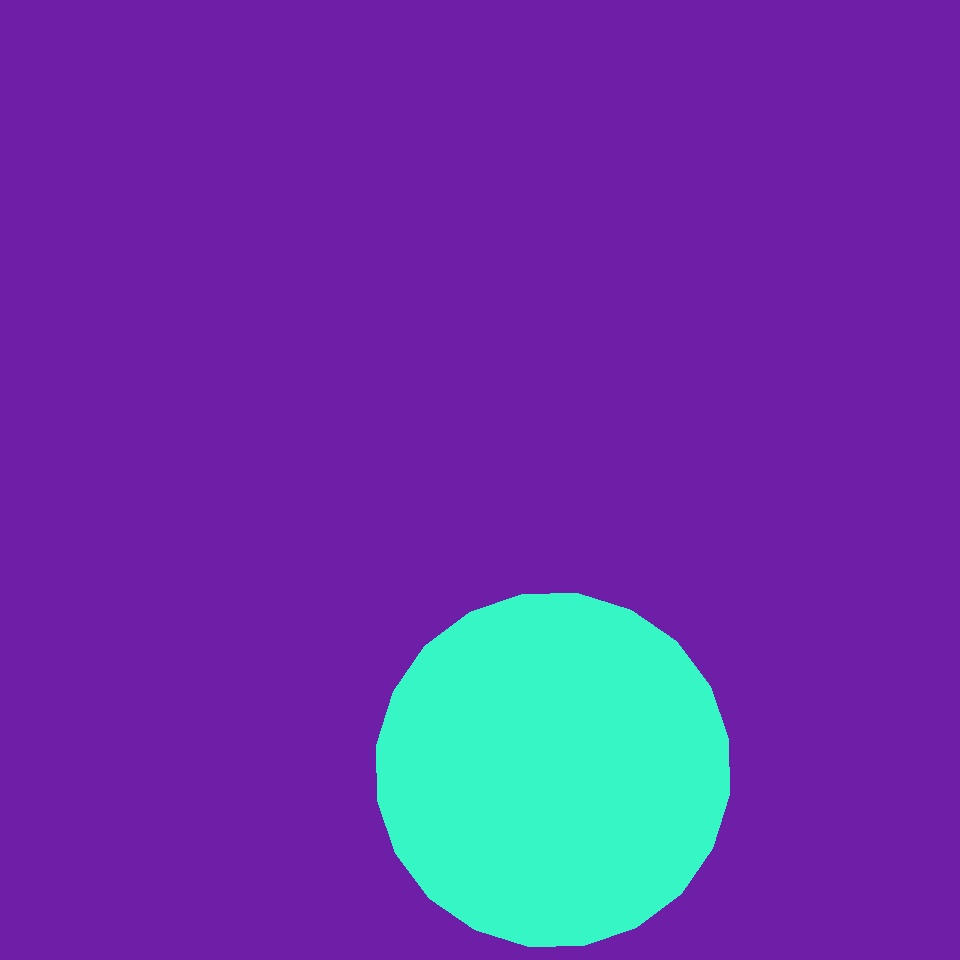circle: (421, 654, 596, 856)
square: (489, 581, 633, 725)
triangle: (376, 594, 730, 946), (68, 398, 404, 734), (3, 623, 335, 955), (308, 525, 629, 846), (133, 552, 339, 757)
